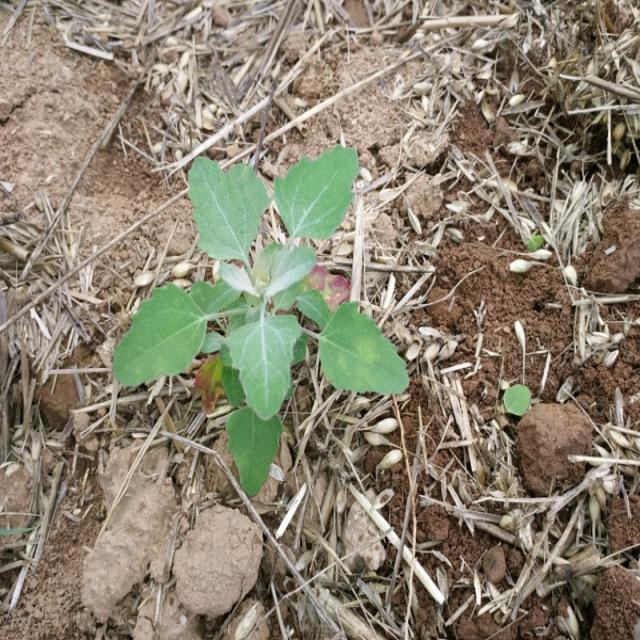ca: (111, 150, 409, 497)
